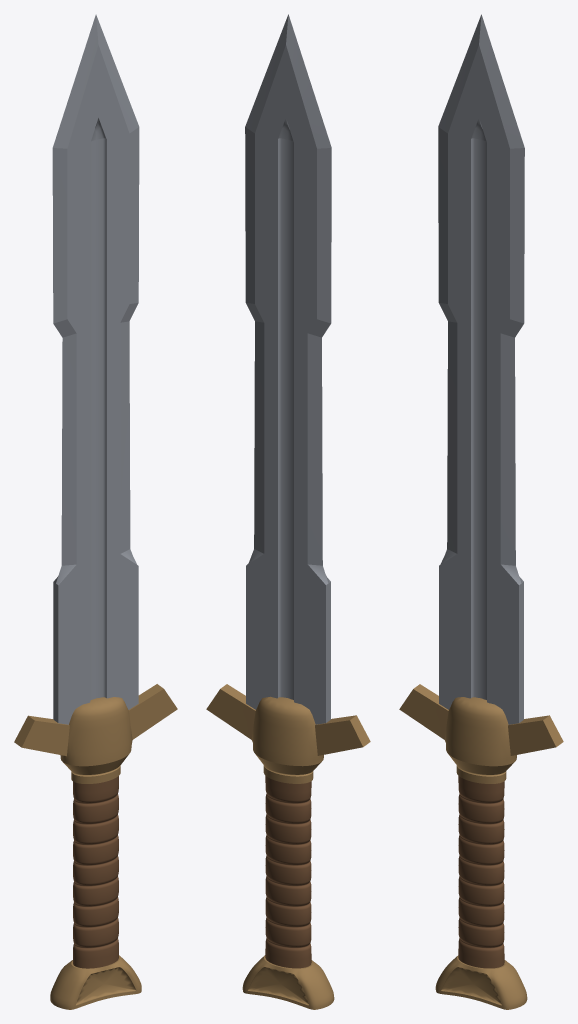
Rendered from dagger.glb.
The picture shows the model from 3 angles, left to right: view 1: azimuth 30°, elevation 25°; view 2: azimuth 150°, elevation 25°; view 3: azimuth 330°, elevation 25°; orthographic projection.
Parts seen in each view (by area): view 1: blade, handle, bladebase, handletip; view 2: blade, handle, bladebase, handletip; view 3: blade, handle, bladebase, handletip.
Part boxes in pixels (box(x1,y1,x2,y2)): blade: box(52, 14, 139, 724); handle: box(73, 776, 118, 968); bladebase: box(14, 684, 177, 783); handletip: box(50, 955, 141, 1009); blade: box(245, 14, 331, 724); handle: box(265, 776, 311, 968); bladebase: box(206, 684, 370, 783); handletip: box(242, 955, 334, 1009); blade: box(438, 14, 524, 724); handle: box(458, 776, 504, 968); bladebase: box(399, 684, 563, 783); handletip: box(435, 955, 527, 1009).
Size of the model in its own units: 0.0803 by 0.4803 by 0.0222.
